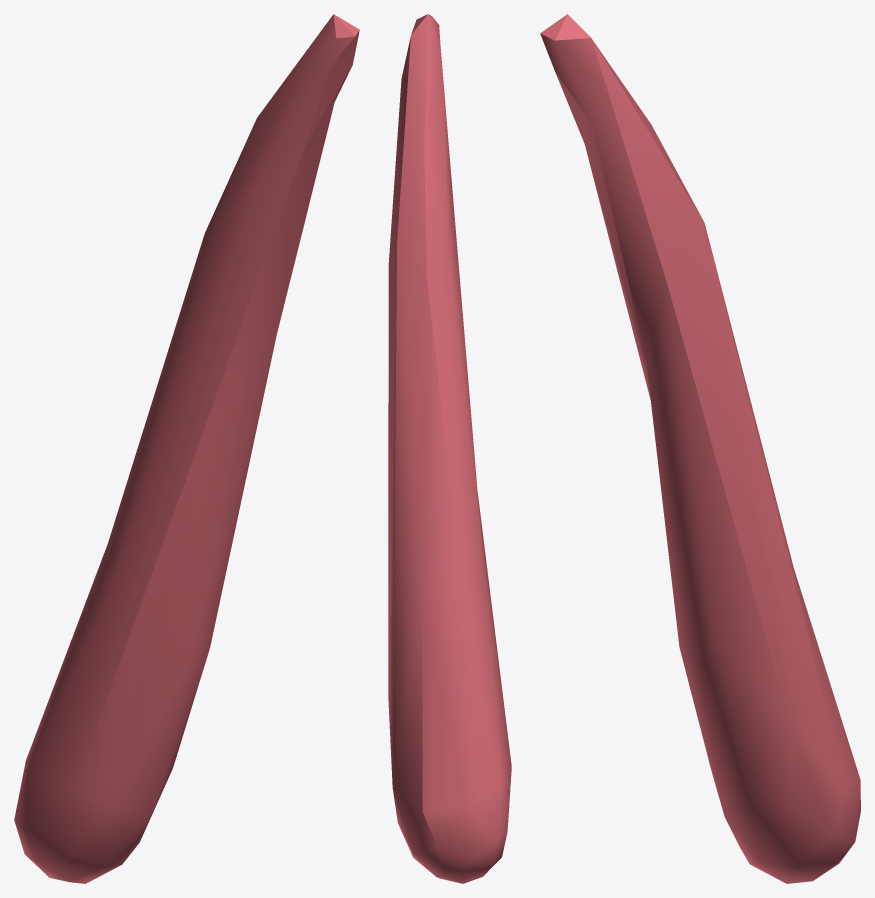
The model's file is fma9438_fj2940.glb.
The picture shows the model from 3 angles, left to right: view 1: azimuth 30°, elevation 25°; view 2: azimuth 150°, elevation 25°; view 3: azimuth 270°, elevation 25°; orthographic projection. The views are drawn at different scales.
Parts seen in each view (by area): view 1: FMA9438_FJ2940; view 2: FMA9438_FJ2940; view 3: FMA9438_FJ2940.
Boxes of the visible parts, bbox=[...] form: FMA9438_FJ2940: bbox=[14, 14, 359, 883]; FMA9438_FJ2940: bbox=[388, 14, 511, 883]; FMA9438_FJ2940: bbox=[540, 14, 860, 883].
Size of the model in its own units: 0.00332 by 0.013 by 0.00404.
